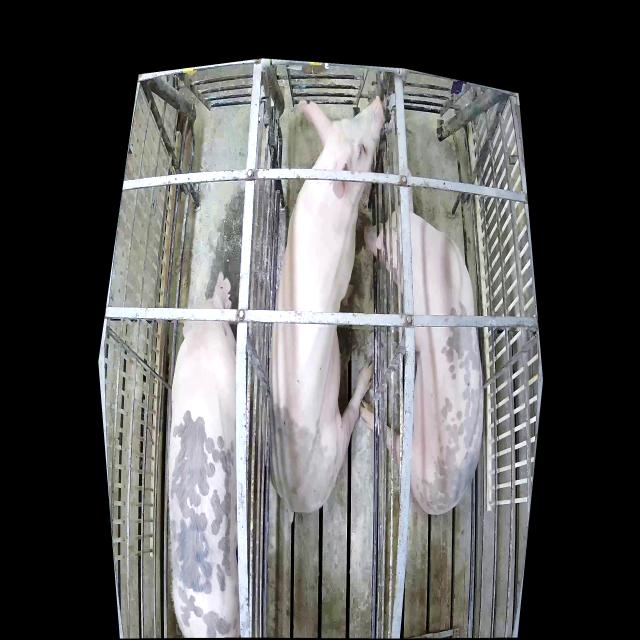pig: (269, 101, 384, 516), (361, 168, 482, 513), (168, 270, 240, 637)
